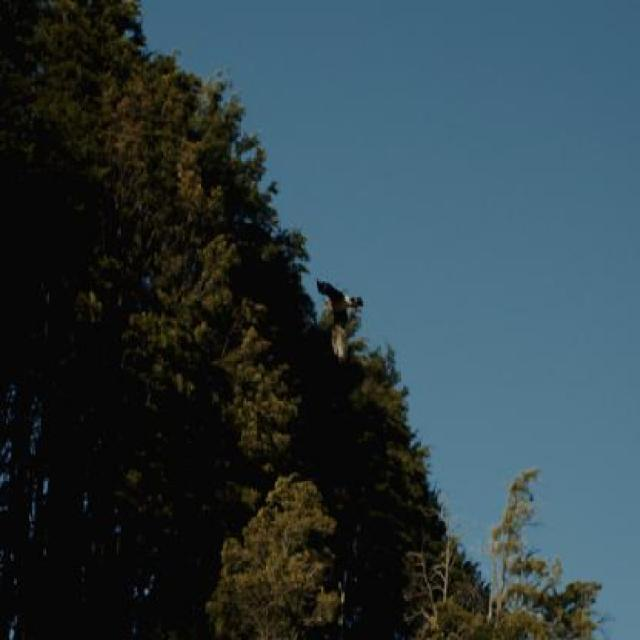bird: (308, 256, 369, 369)
